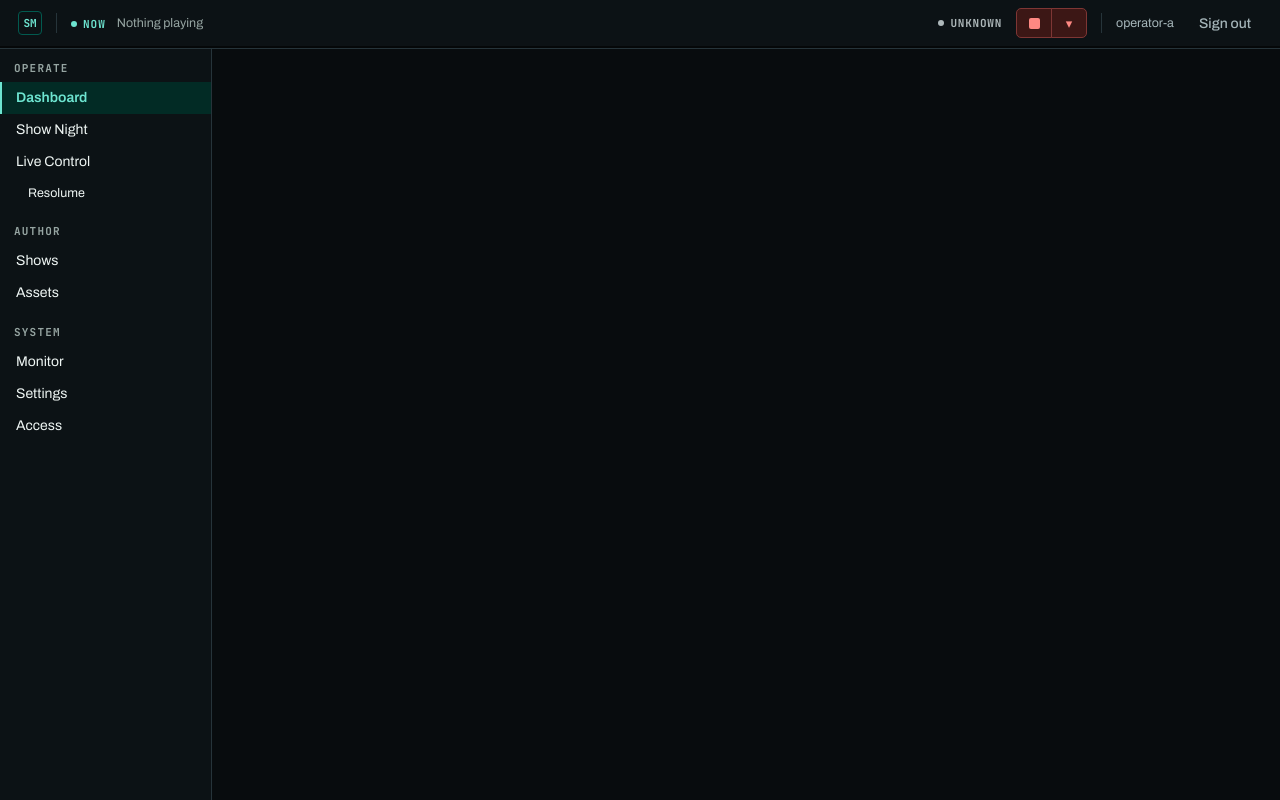
Scenario: app shell › the emergency stop on the bar › drops the arm on Cancel and on closing the popup, without firing
Click the button named "More emergency stop levels".
click(1069, 23)  # box [1051, 8, 1087, 38]
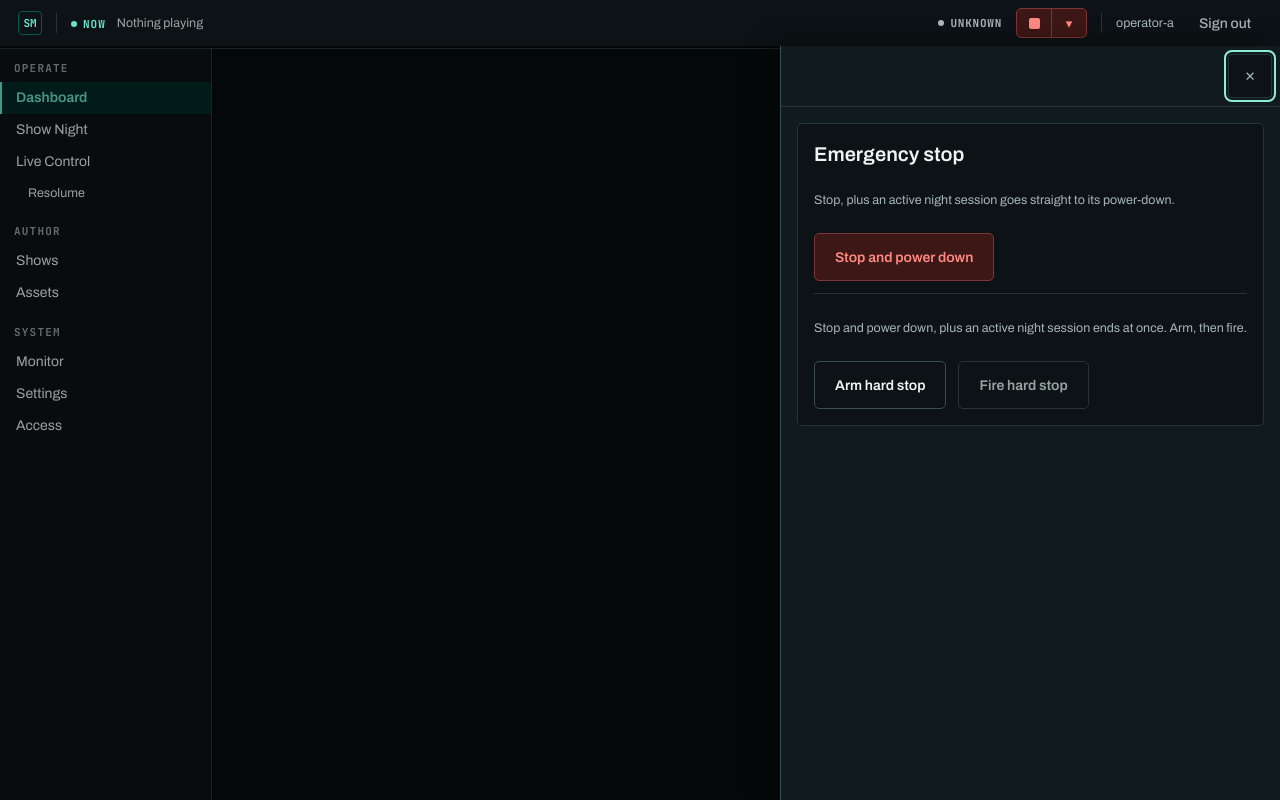
Click the button "Arm hard stop".
click(880, 385)  # box [814, 361, 946, 409]
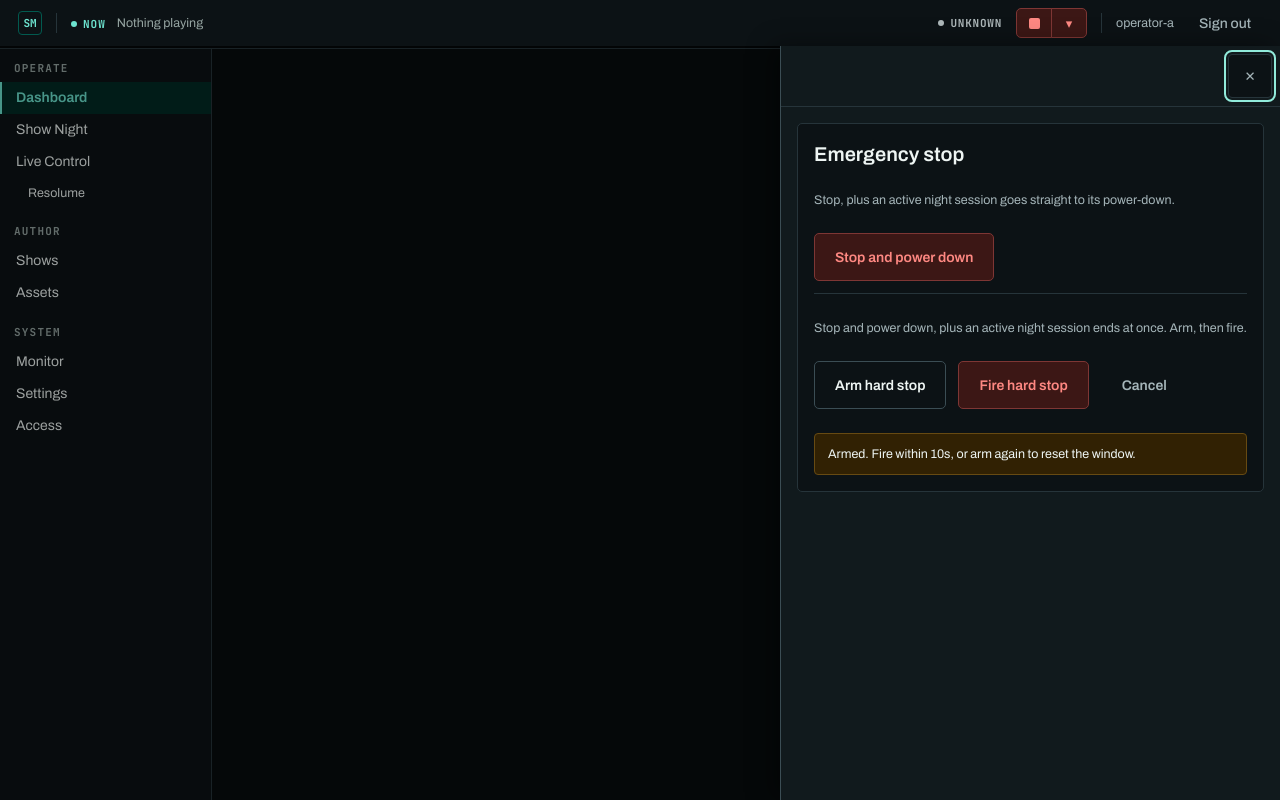
Expected: the text "Armed. Fire within 10s, or arm again to reset the window." is shown, [828, 447, 1136, 461]
Click the button "Cancel".
click(1144, 385)  # box [1101, 361, 1188, 409]
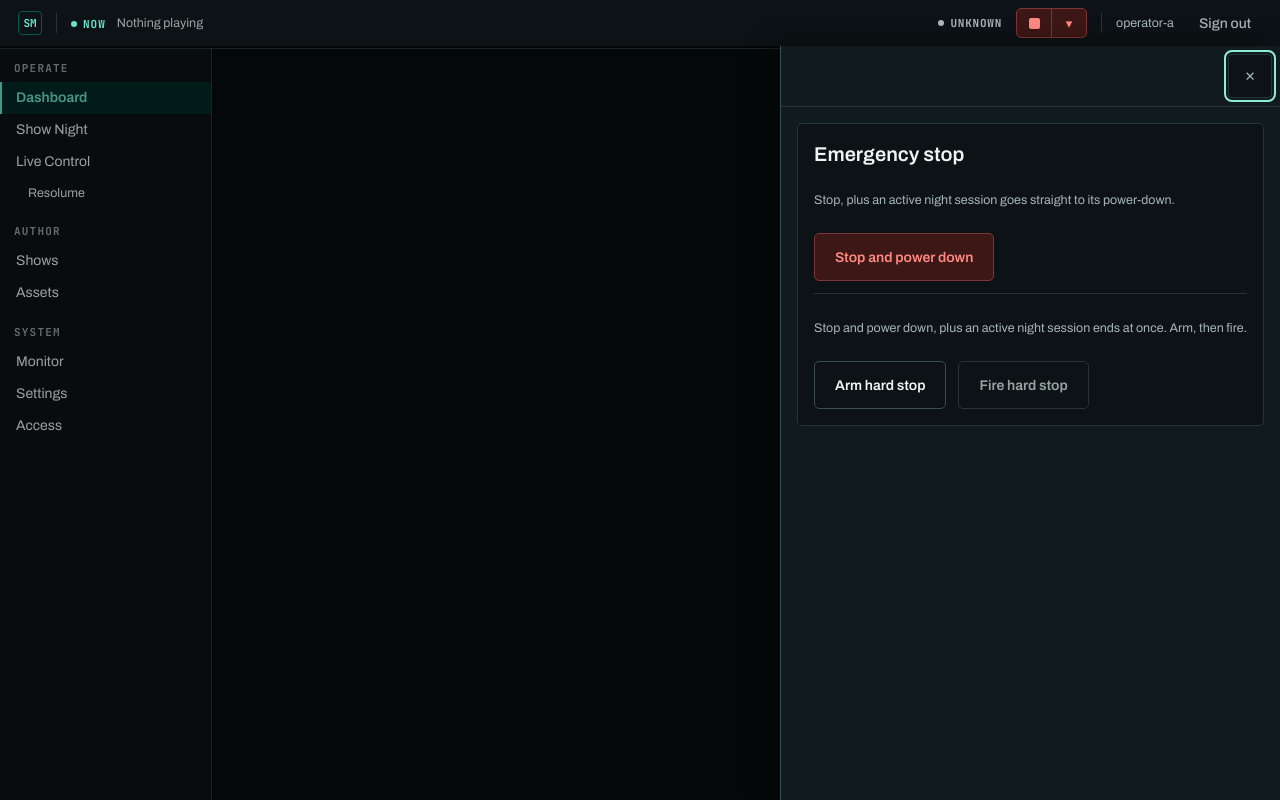
Expected: the text "Armed. Fire within" is gone
Expected: the button "Fire hard stop" is disabled, [958, 361, 1089, 409]
Click the button "Arm hard stop".
click(880, 385)  # box [814, 361, 946, 409]
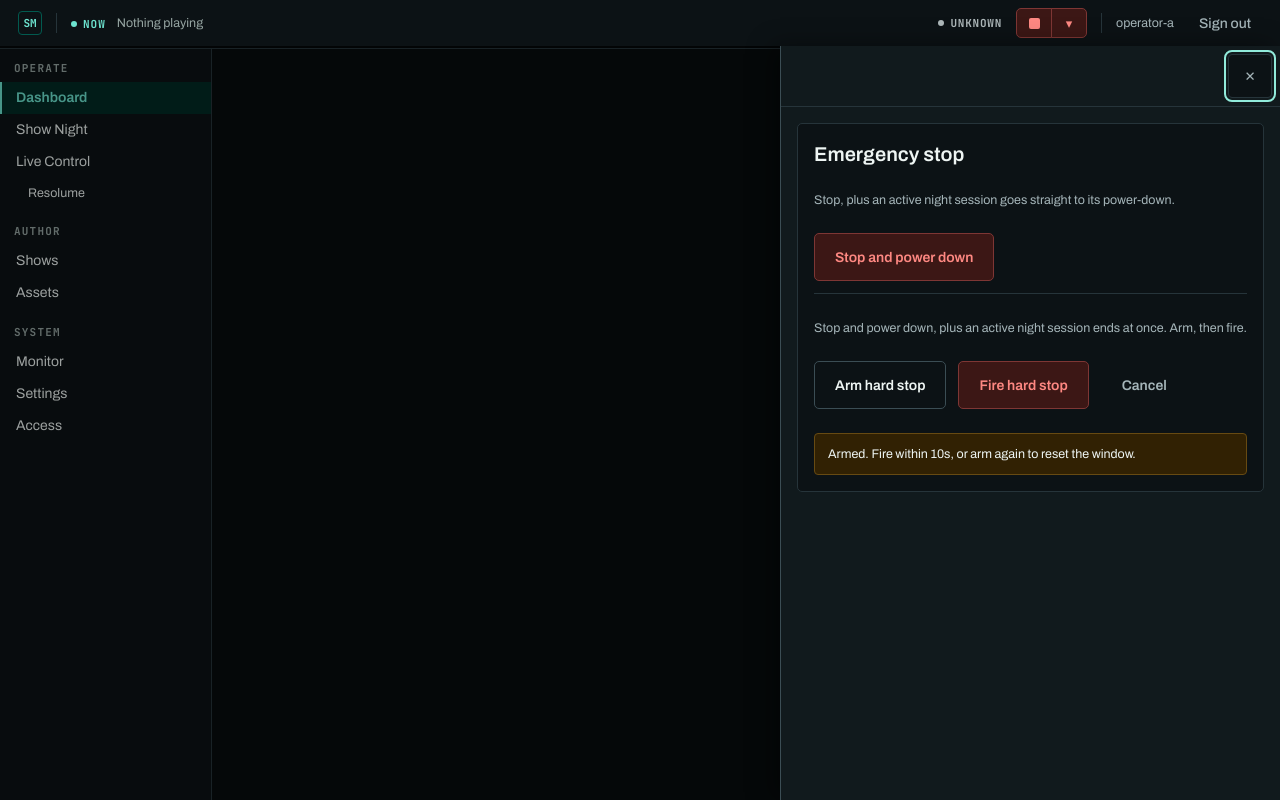
Expected: the text "Armed. Fire within 10s, or arm again to reset the window." is shown, [828, 447, 1136, 461]
Click the button "✕".
click(1250, 76)  # box [1228, 54, 1272, 98]
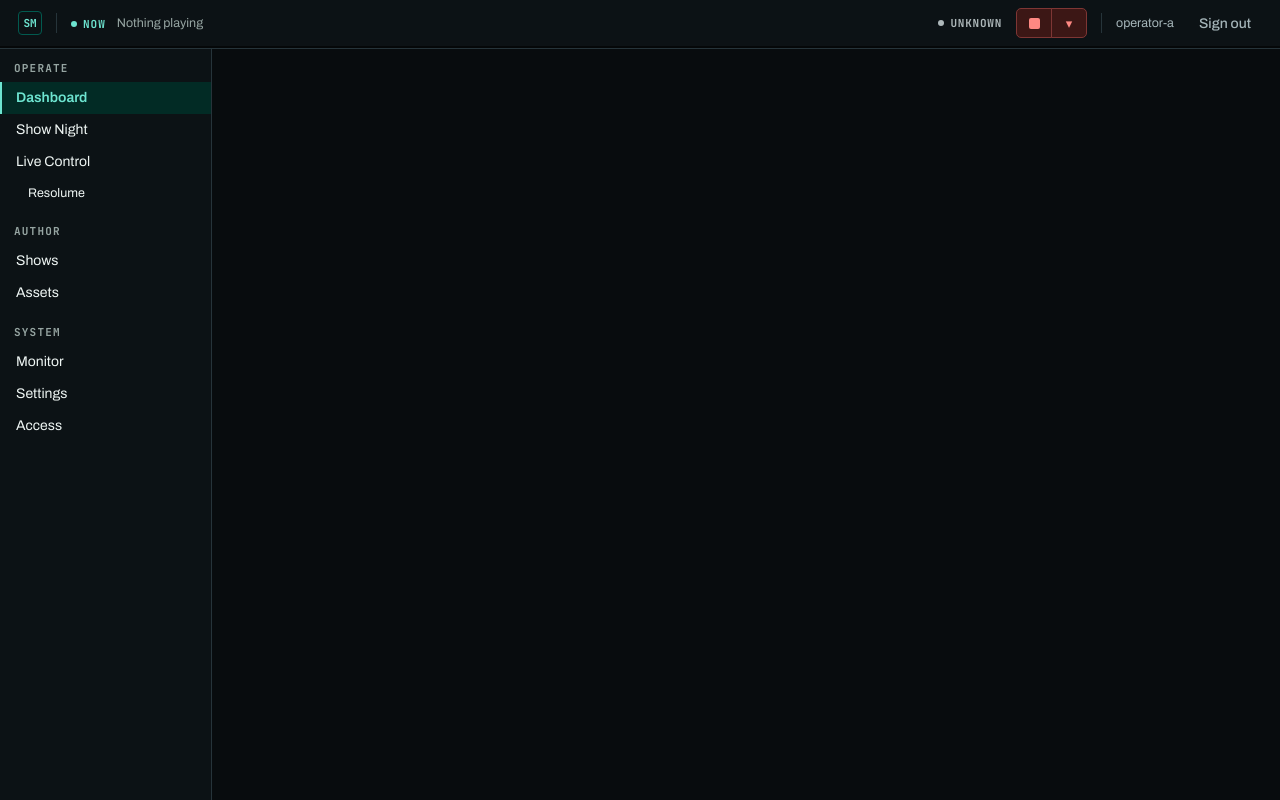
Click the button named "More emergency stop levels".
click(1069, 23)  # box [1051, 8, 1087, 38]
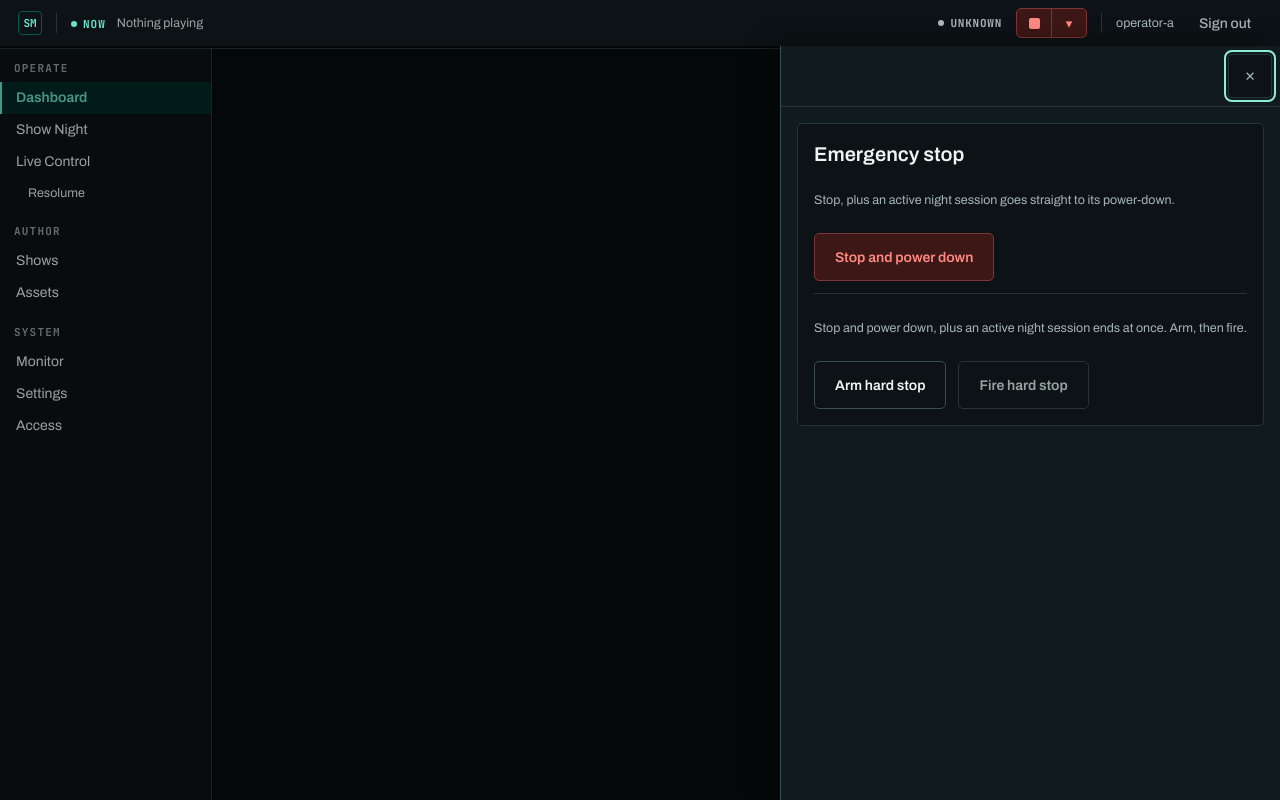
Expected: the text "Armed. Fire within" is not shown
Expected: the button "Fire hard stop" is disabled, [958, 361, 1089, 409]
